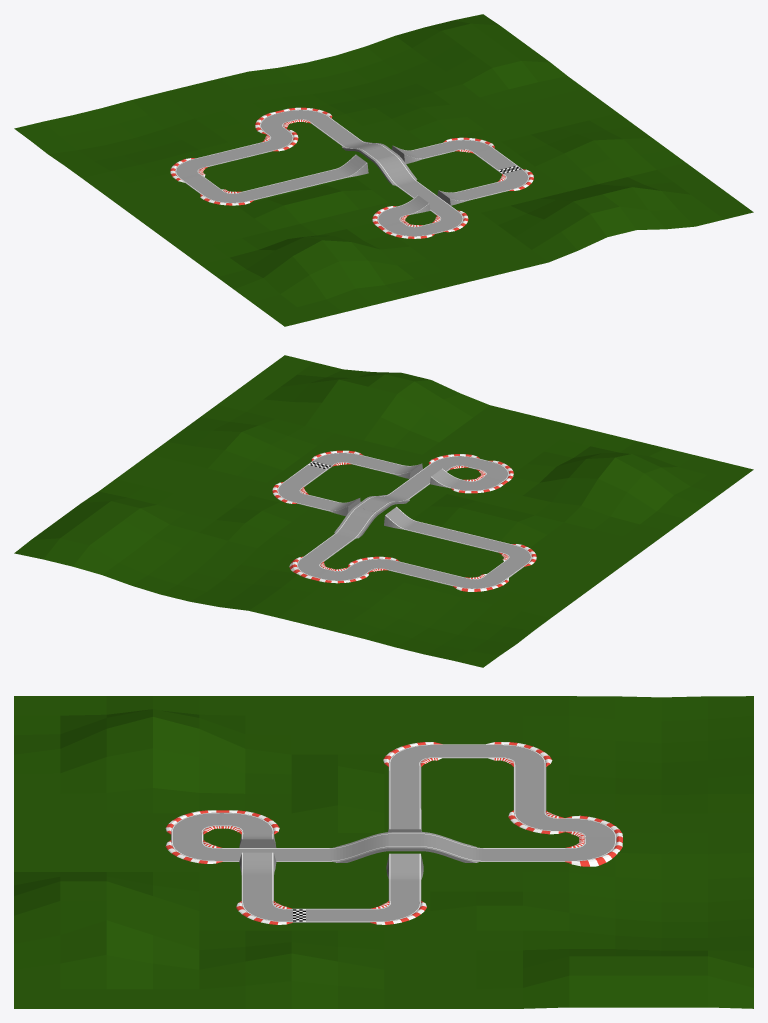
The model's file is race_track.fbx.
The picture shows the model from 3 angles, top to bottom: view 1: azimuth 30°, elevation 25°; view 2: azimuth 150°, elevation 25°; view 3: azimuth 270°, elevation 25°; orthographic projection. The views are drawn at different scales.
Visible parts, largest first — view 1: ground, track; view 2: ground, track; view 3: ground, track.
Boxes of the visible parts, x1,y1,x2,y2 form: ground: (14,14,753,326); track: (170,107,533,238); ground: (14,355,753,667); track: (272,450,536,591); ground: (14,696,753,1008); track: (165,742,622,924).
Bounding box in the file's own units: 23115 × 1686 × 23115.
